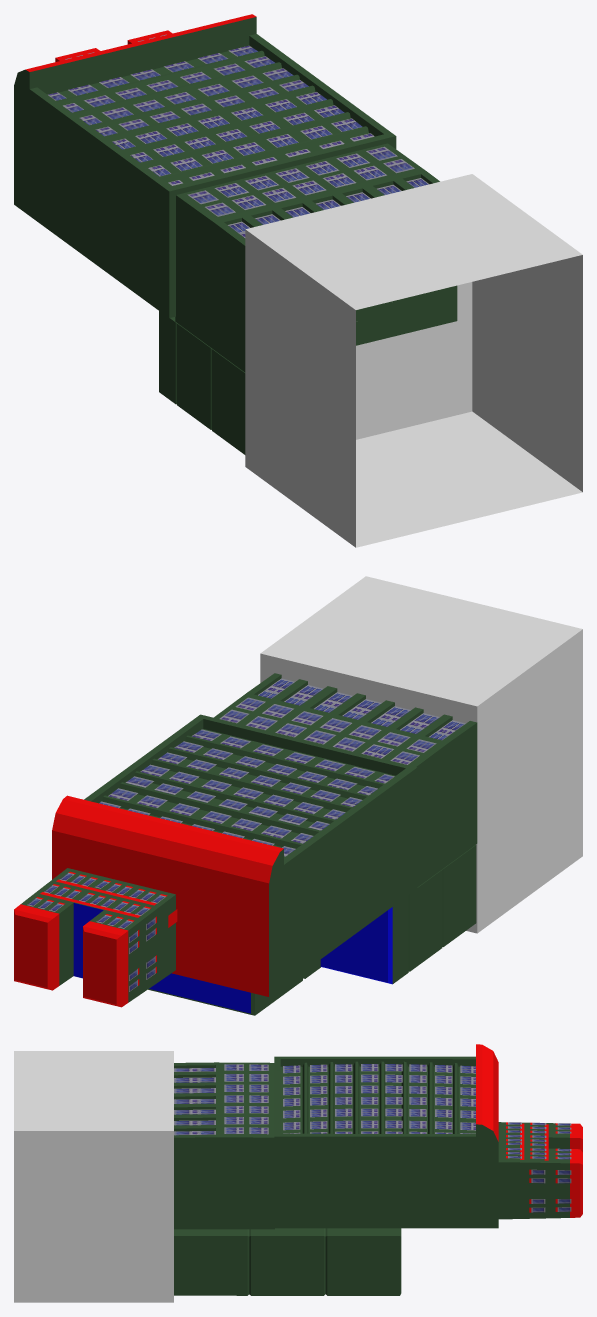
Rendered from block_fat_02.FBX.
The picture shows the model from 3 angles, top to bottom: view 1: azimuth 30°, elevation 25°; view 2: azimuth 150°, elevation 25°; view 3: azimuth 270°, elevation 25°; orthographic projection. The views are drawn at different scales.
Parts seen in each view (by area): view 1: Plane002, building_8s_002, Box1039, building_5s_002; view 2: building_8s_002, Plane002, Box1039, building_3s_008, building_5s_002, building_9s_007; view 3: Plane002, building_8s_002, Box1039, building_9s_007, building_3s_008.
Part boxes in pixels (left/top/right/bottom): Plane002: left=245, top=174, right=582, bottom=547; building_8s_002: left=14, top=14, right=396, bottom=317; Box1039: left=175, top=143, right=457, bottom=372; building_5s_002: left=159, top=311, right=245, bottom=454; building_8s_002: left=52, top=714, right=417, bottom=996; Plane002: left=260, top=576, right=582, bottom=933; Box1039: left=214, top=673, right=477, bottom=887; building_3s_008: left=14, top=868, right=177, bottom=1007; building_5s_002: left=320, top=845, right=476, bottom=984; building_9s_007: left=148, top=959, right=320, bottom=1015; Plane002: left=14, top=1051, right=173, bottom=1302; building_8s_002: left=274, top=1044, right=498, bottom=1228; Box1039: left=174, top=1062, right=274, bottom=1229; building_9s_007: left=174, top=1228, right=401, bottom=1295; building_3s_008: left=498, top=1122, right=582, bottom=1219.
Size of the model in its own units: 30.97 by 30.74 by 90.04.
